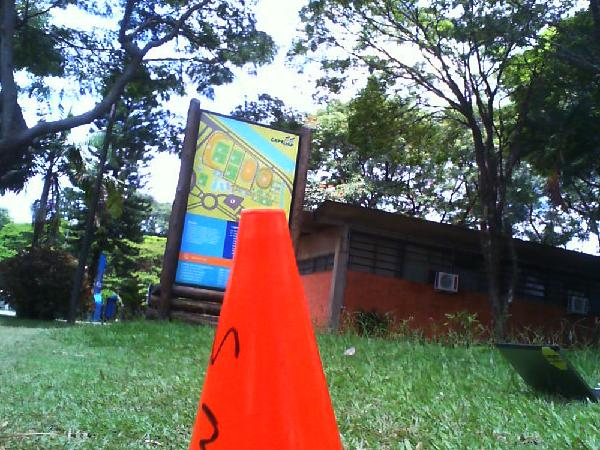0 cone: (181, 207, 348, 450)
